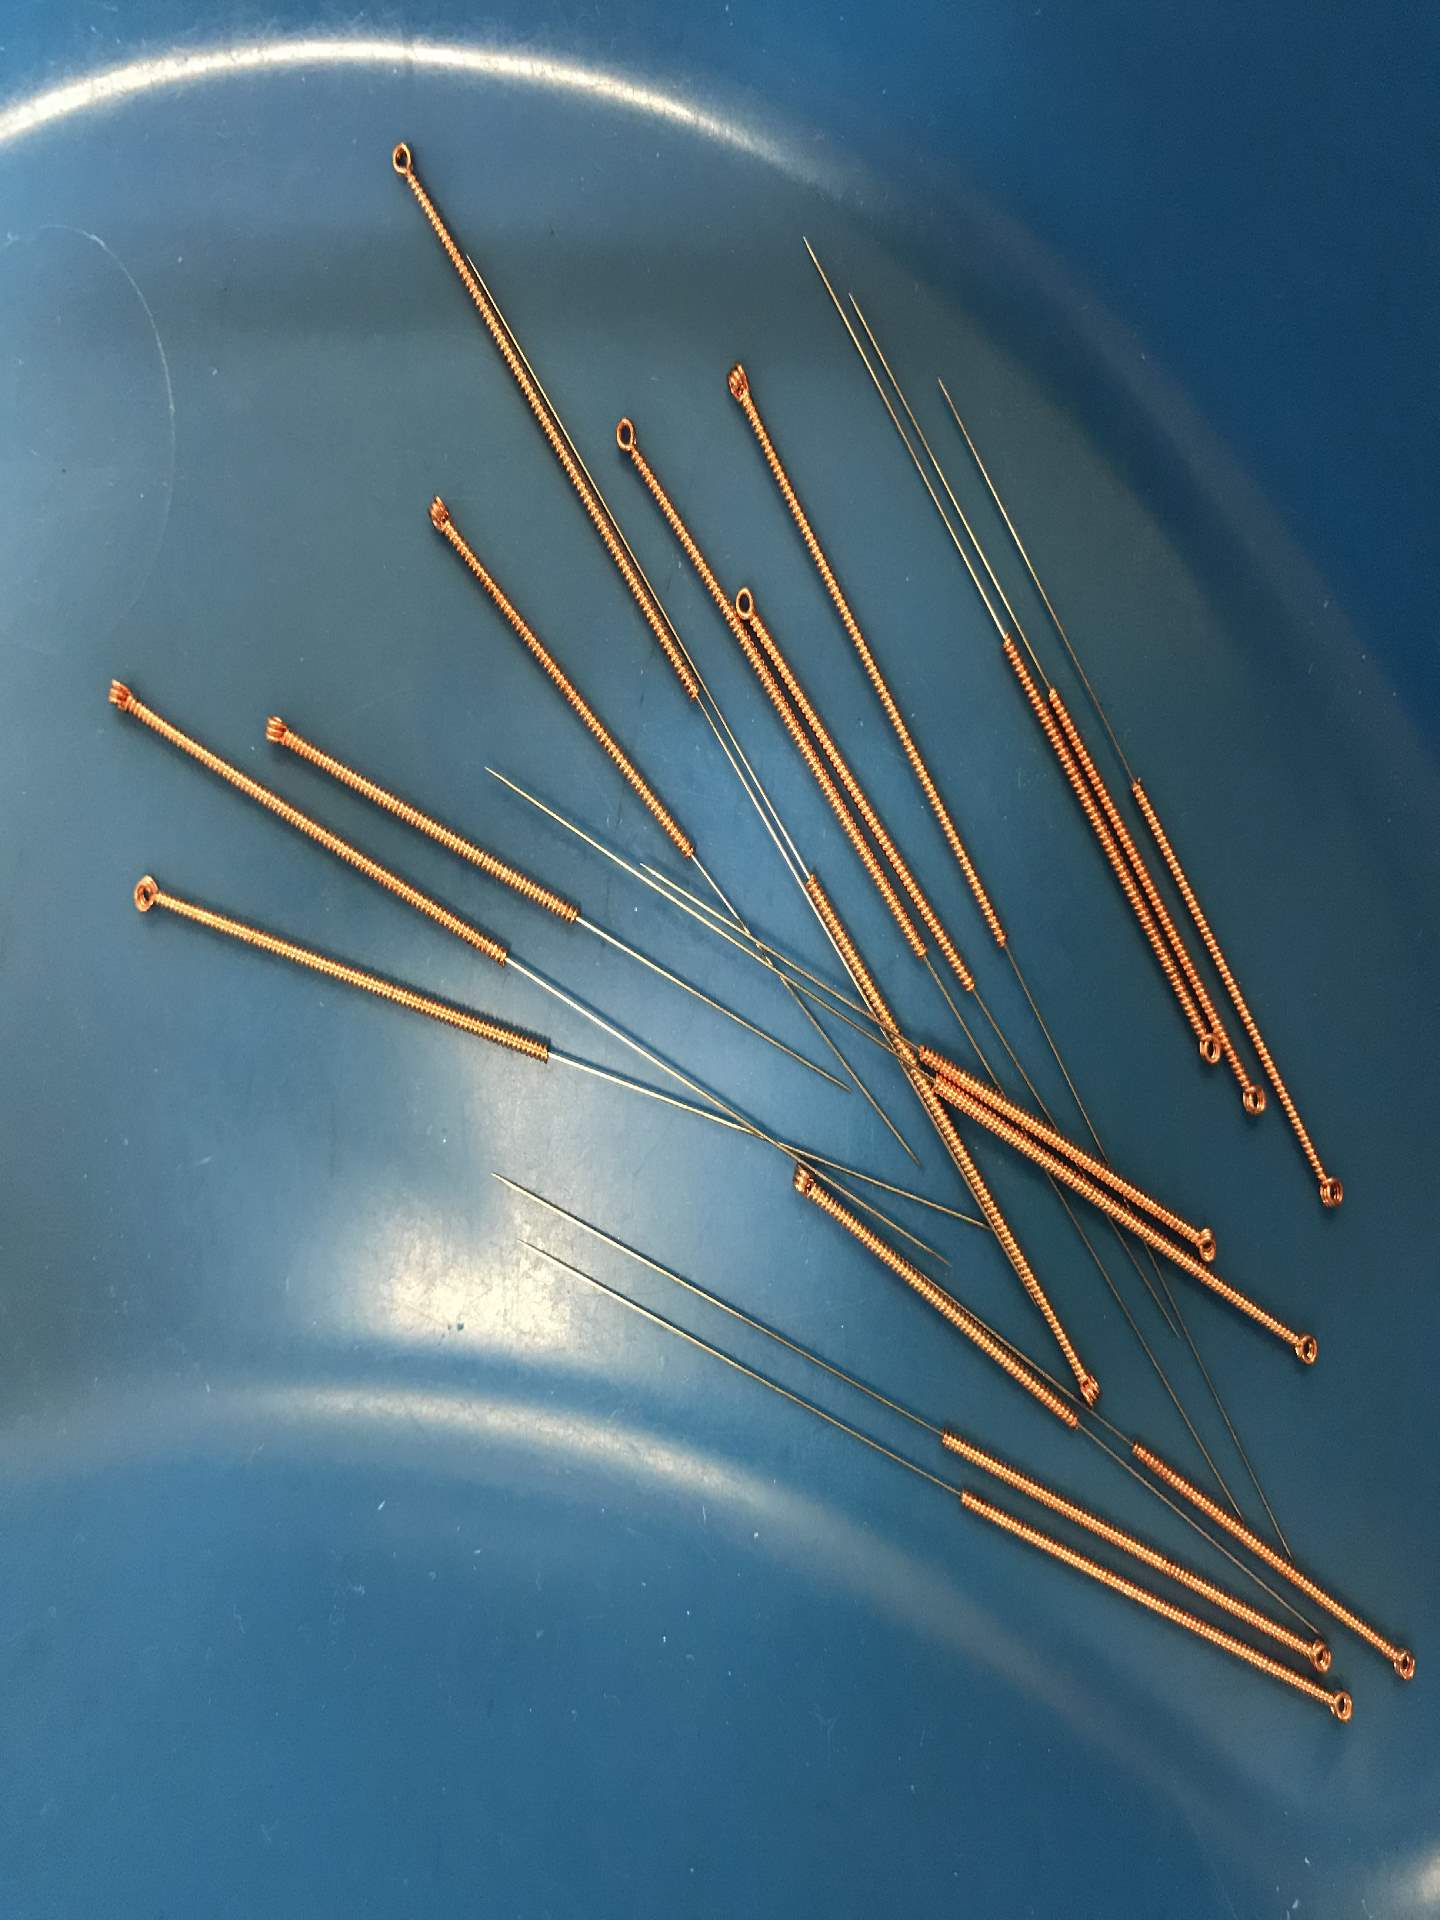needle: (116, 860, 175, 928), (712, 351, 765, 416), (1302, 1160, 1355, 1223), (94, 665, 150, 721), (604, 407, 650, 473), (779, 1154, 829, 1214), (380, 132, 427, 194), (416, 482, 461, 544), (253, 705, 299, 762), (1381, 1637, 1426, 1692), (1283, 1321, 1328, 1374), (1230, 1073, 1272, 1129), (1317, 1683, 1363, 1731), (1069, 1364, 1112, 1415), (1299, 1630, 1339, 1678), (1189, 1027, 1227, 1069), (1187, 1225, 1224, 1265), (734, 582, 762, 630)
